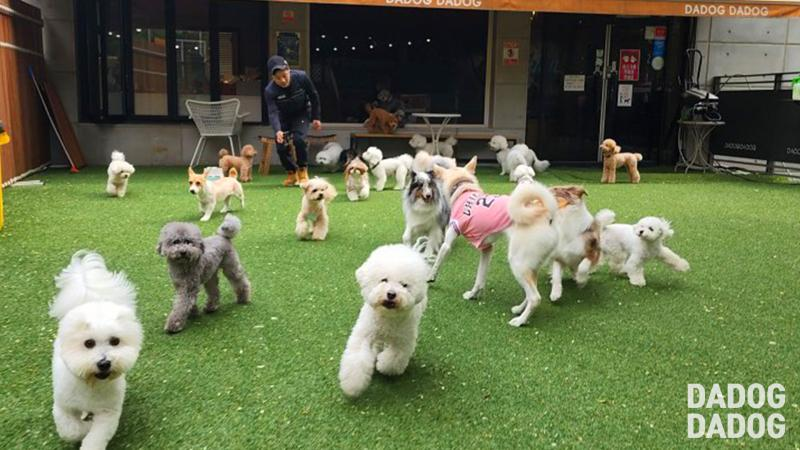dogs: (435, 153, 553, 331), (46, 252, 144, 450), (339, 237, 428, 402), (151, 208, 263, 331), (595, 206, 695, 296), (403, 159, 443, 260), (186, 161, 248, 216), (488, 127, 549, 180), (362, 137, 417, 189), (297, 170, 336, 242), (598, 134, 648, 184), (213, 133, 263, 175), (108, 143, 140, 201), (343, 154, 372, 202), (312, 139, 342, 166)
